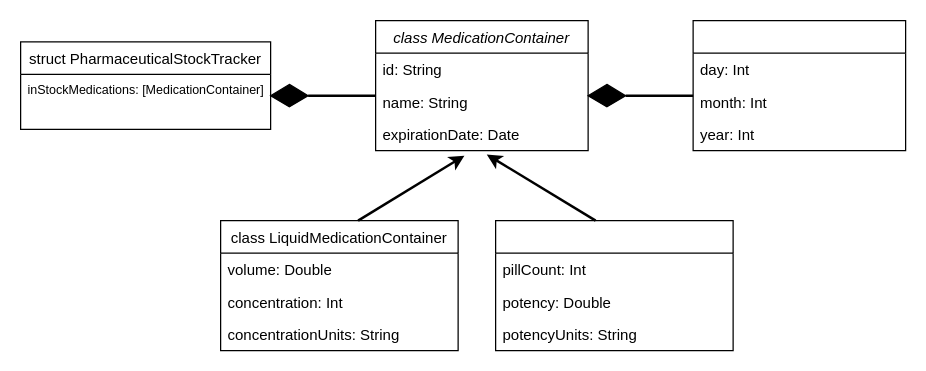
Some shapes in this 926 by 371 pixel diagram are drawn without their labels. Each missing label, with the box of its shape:
class Date: (692, 19, 906, 151)
class TabletMedicationContainer: (494, 219, 733, 351)
